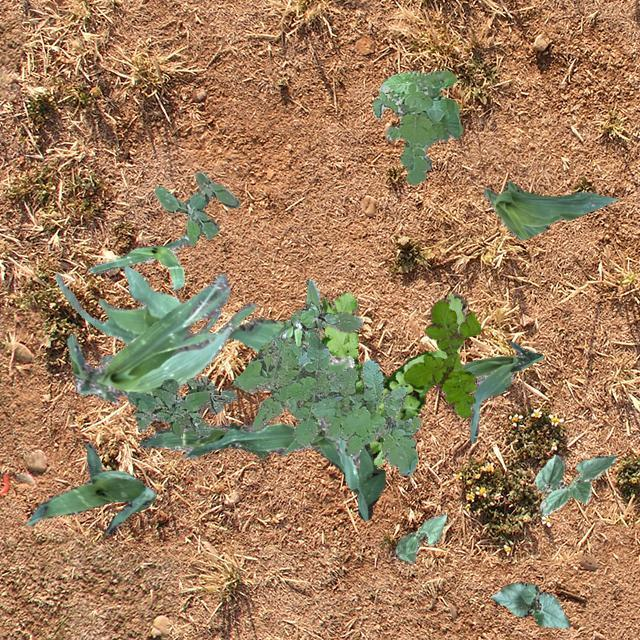crop: (66, 274, 256, 404), (138, 422, 384, 520), (227, 317, 359, 488), (54, 264, 220, 362), (24, 442, 156, 534), (460, 340, 542, 442), (482, 180, 618, 238), (88, 233, 184, 290), (534, 454, 614, 514), (490, 580, 570, 628), (394, 512, 446, 562)
weed: (232, 332, 420, 474), (314, 292, 466, 466), (372, 70, 462, 184), (402, 298, 480, 416), (126, 376, 237, 436), (154, 172, 238, 244), (292, 278, 362, 336), (274, 307, 322, 348), (300, 300, 338, 330)
